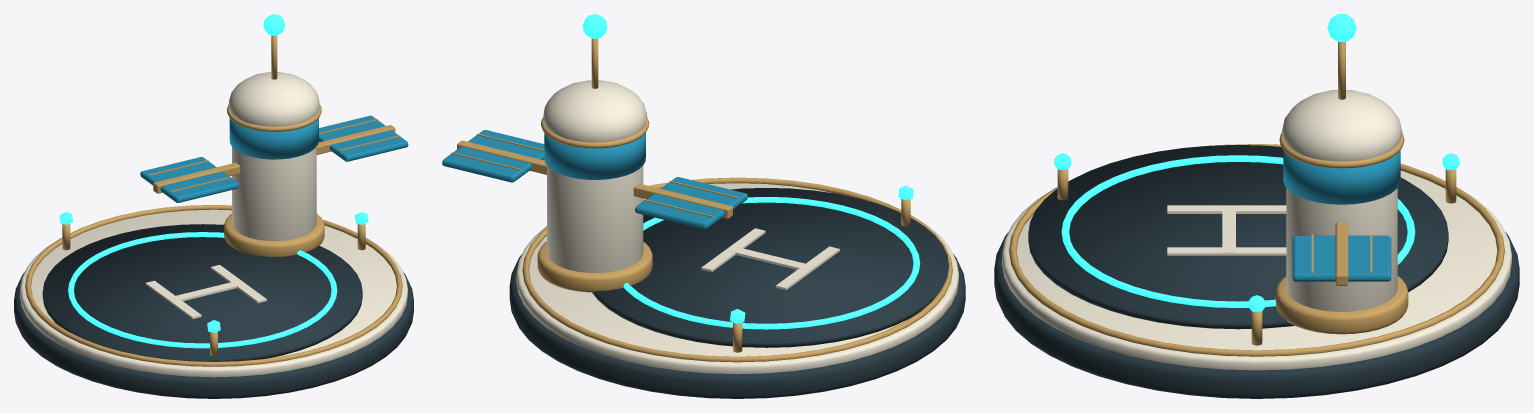
File: station.glb
The picture shows the model from 3 angles, left to right: view 1: azimuth 30°, elevation 25°; view 2: azimuth 150°, elevation 25°; view 3: azimuth 270°, elevation 25°; orthographic projection. The views are drawn at different scales.
Visible parts, largest first — view 1: station | midnight graphite, station | warm porcelain, station | champagne brass, station | sapphire ceramic, station | cyan energy; view 2: station | midnight graphite, station | warm porcelain, station | champagne brass, station | sapphire ceramic, station | cyan energy; view 3: station | midnight graphite, station | warm porcelain, station | champagne brass, station | sapphire ceramic, station | cyan energy.
Boxes of the visible parts, left/top/right/bottom form: station | midnight graphite: left=14, top=224, right=413, bottom=398; station | warm porcelain: left=20, top=72, right=407, bottom=377; station | champagne brass: left=25, top=35, right=402, bottom=366; station | sapphire ceramic: left=140, top=115, right=408, bottom=202; station | cyan energy: left=59, top=14, right=368, bottom=348; station | midnight graphite: left=509, top=188, right=965, bottom=398; station | warm porcelain: left=516, top=80, right=958, bottom=374; station | champagne brass: left=451, top=38, right=952, bottom=362; station | sapphire ceramic: left=442, top=130, right=747, bottom=229; station | cyan energy: left=582, top=14, right=920, bottom=329; station | midnight graphite: left=994, top=145, right=1519, bottom=398; station | warm porcelain: left=1002, top=90, right=1511, bottom=370; station | champagne brass: left=1009, top=42, right=1504, bottom=356; station | sapphire ceramic: left=1283, top=150, right=1400, bottom=281; station | cyan energy: left=1054, top=14, right=1459, bottom=311.
Size of the model in its own units: 3.78 by 2.39 by 3.4.
